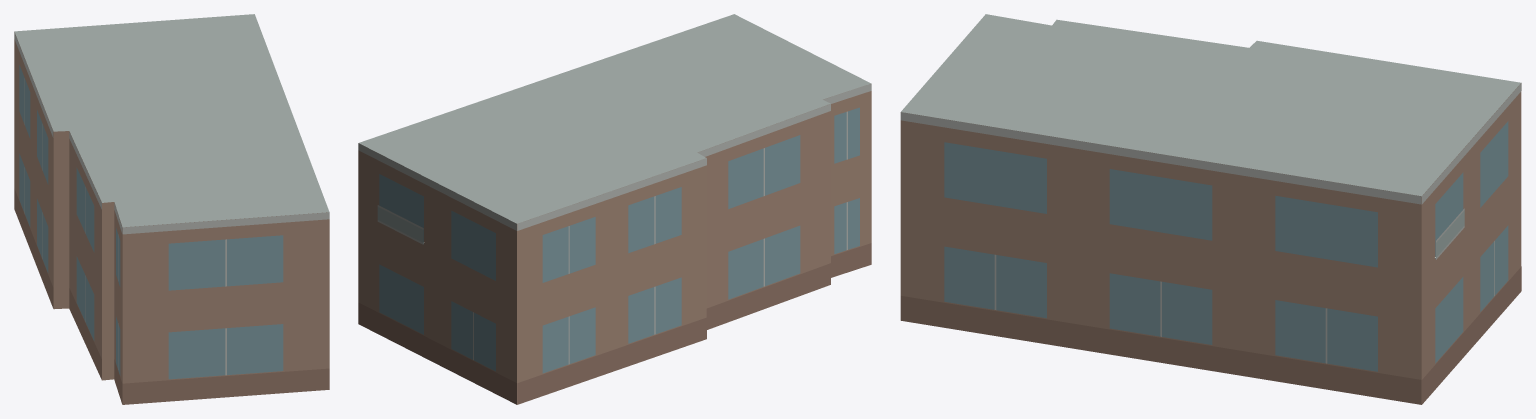
The model's file is survey-upis-32460660.glb.
The picture shows the model from 3 angles, left to right: view 1: azimuth 30°, elevation 25°; view 2: azimuth 150°, elevation 25°; view 3: azimuth 270°, elevation 25°; orthographic projection. The views are drawn at different scales.
Parts seen in each view (by area): view 1: survey-upis-32460660.tmp; view 2: survey-upis-32460660.tmp; view 3: survey-upis-32460660.tmp.
Boxes of the visible parts, left/top/right/bottom form: survey-upis-32460660.tmp: left=14, top=14, right=329, bottom=404; survey-upis-32460660.tmp: left=358, top=14, right=871, bottom=404; survey-upis-32460660.tmp: left=900, top=14, right=1521, bottom=404.
Size of the model in its own units: 11.44 by 6.1 by 16.46.
